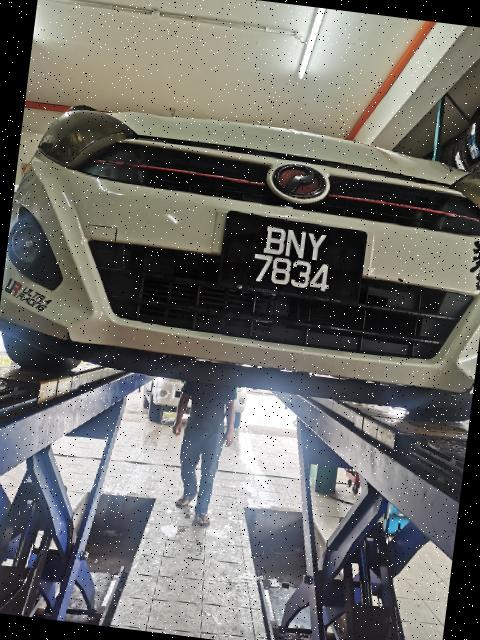License_Plate: (221, 213, 365, 302)
car: (1, 86, 480, 433)
